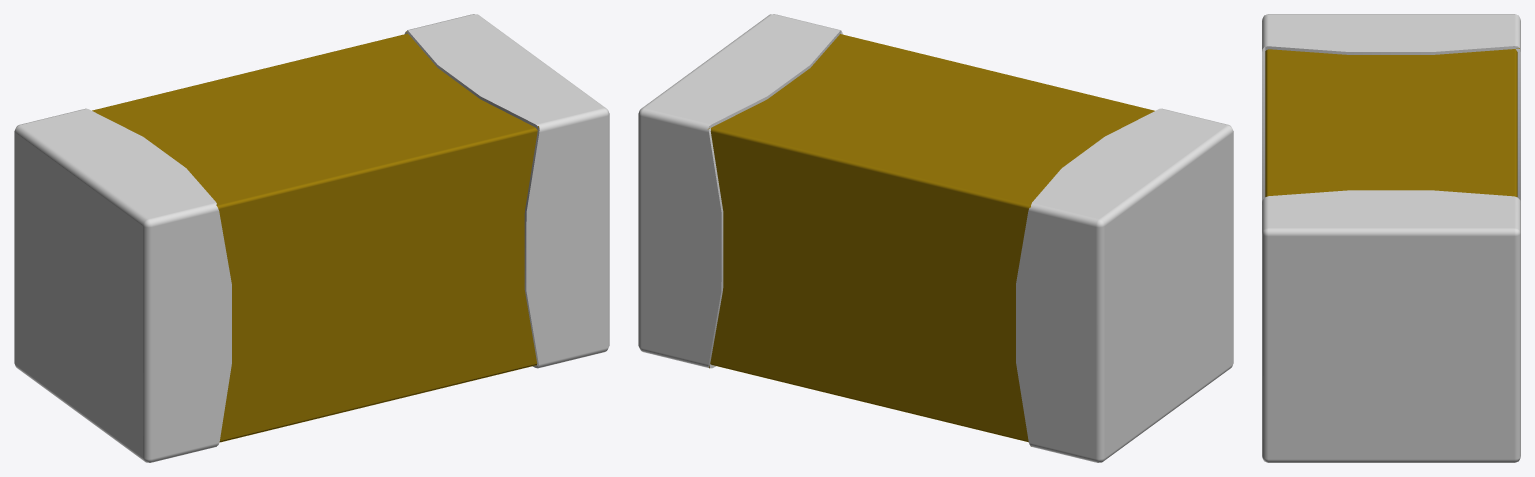
Rendered from FH_0603B151K500NT.3dmodel.glb.
3 views of the same model, side by side, from view 1: azimuth 30°, elevation 25°; view 2: azimuth 150°, elevation 25°; view 3: azimuth 270°, elevation 25° (orthographic). The views are drawn at different scales.
Visible parts, largest first — view 1: =>[0:1:1:1]; view 2: =>[0:1:1:1]; view 3: =>[0:1:1:1].
Part boxes in pixels (x1,y1,x2,y2): =>[0:1:1:1]: (14, 14, 609, 462); =>[0:1:1:1]: (638, 14, 1233, 462); =>[0:1:1:1]: (1262, 14, 1520, 462).
Size of the model in its own units: 1.6 by 0.8 by 0.8.
